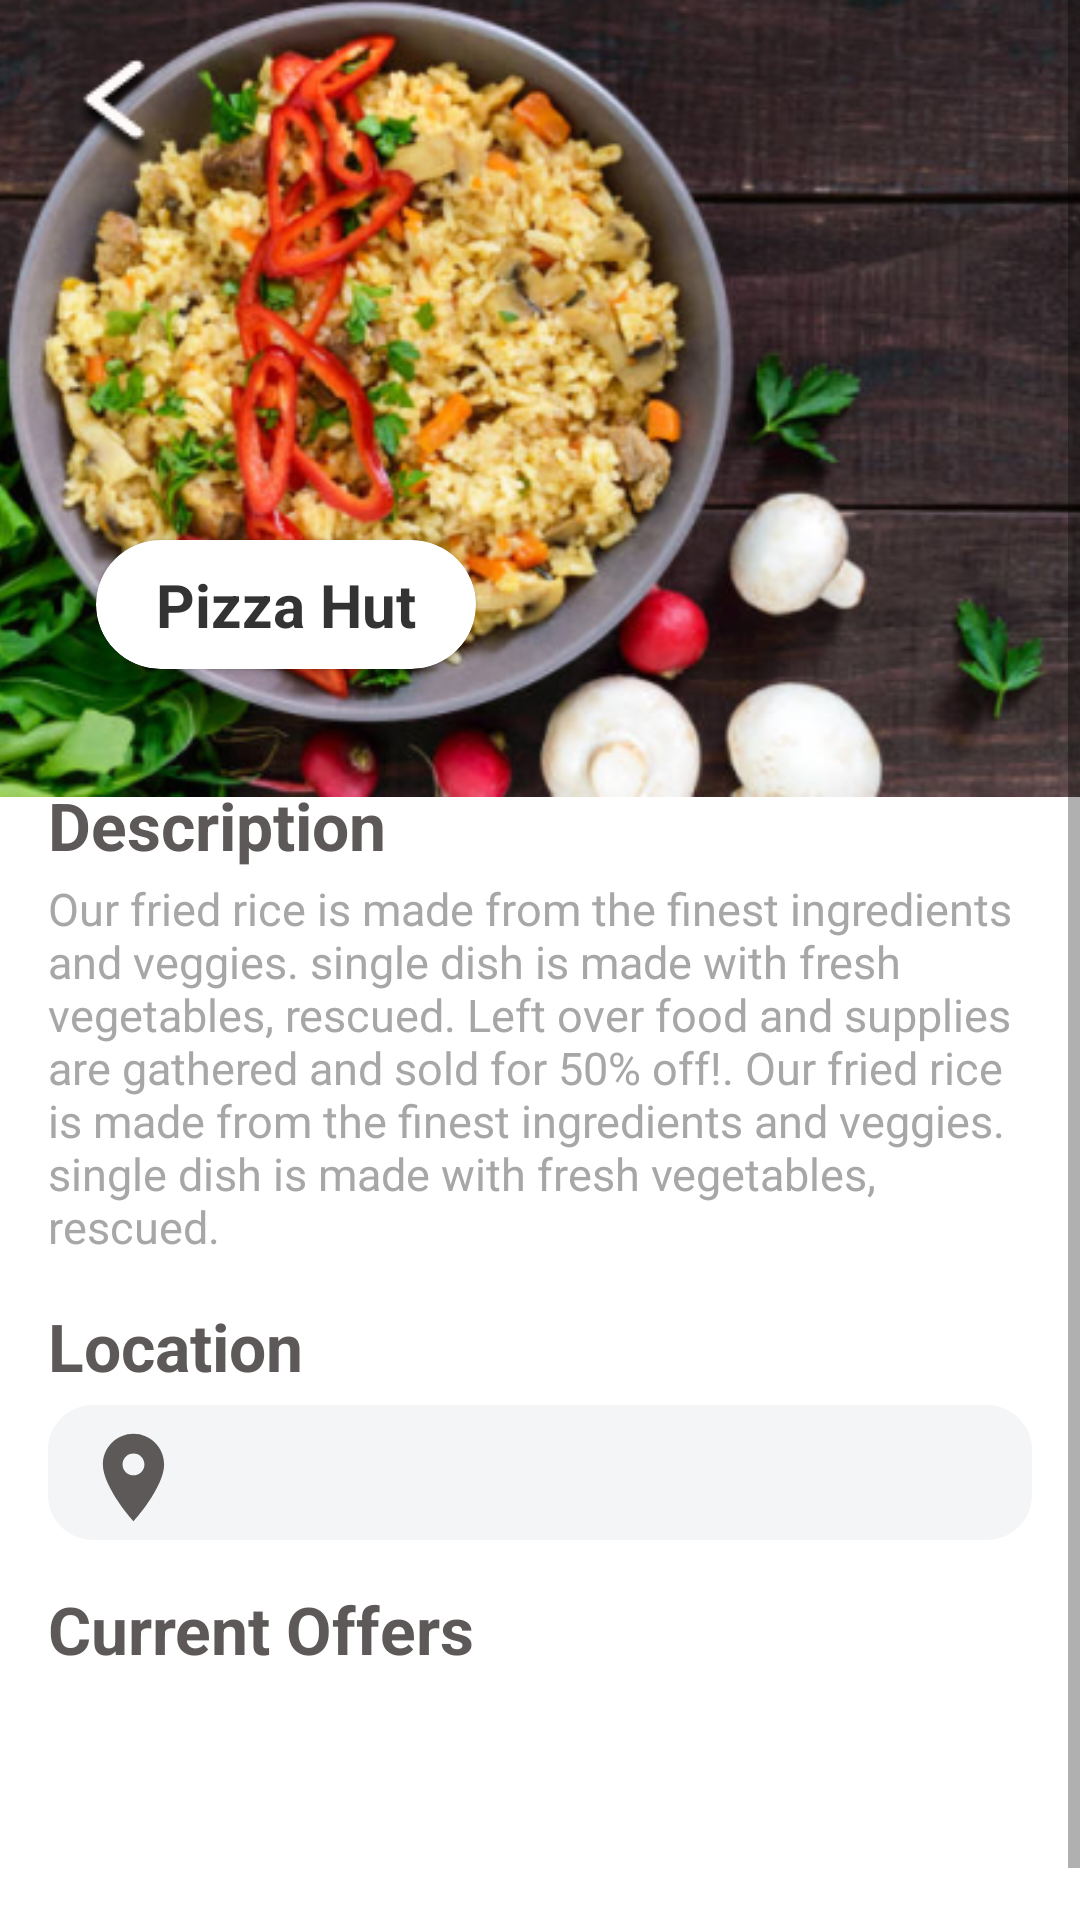

Named icons in this screenshot (1080 x 1920) and their centers, [x,y]:
back: [114,110]
